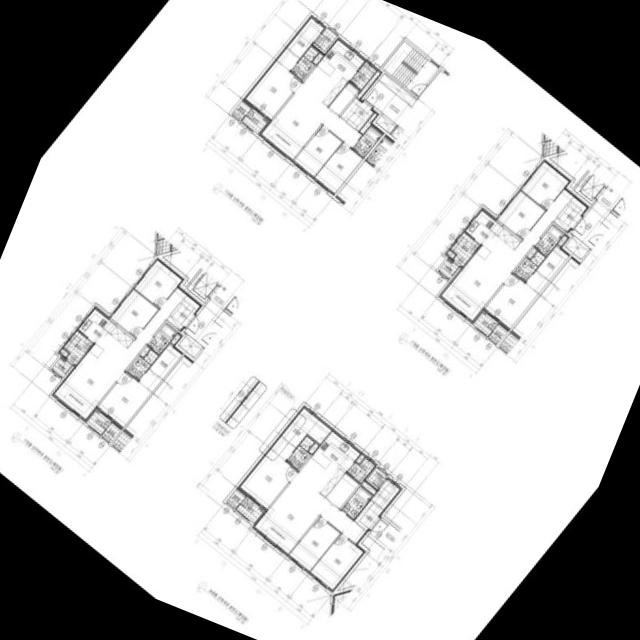background: (0, 0, 640, 640)
space_balconi: (450, 232, 479, 266), (63, 330, 92, 364), (349, 61, 376, 89), (346, 457, 374, 483), (235, 496, 262, 522), (241, 107, 266, 133), (85, 410, 110, 434), (472, 312, 497, 335)
space_bedroom: (238, 447, 296, 508), (245, 60, 300, 118), (482, 273, 537, 330), (95, 371, 150, 428), (309, 533, 363, 590), (289, 516, 339, 570), (293, 125, 341, 176), (314, 142, 362, 193), (520, 161, 568, 209), (497, 190, 544, 239), (134, 259, 181, 307), (110, 289, 157, 337), (308, 442, 318, 453)
space_dressroom: (269, 406, 330, 459), (275, 17, 323, 71), (138, 343, 182, 391), (525, 245, 569, 292)
space_elevator: (186, 268, 219, 302), (573, 170, 606, 204)
space_elevator_hall: (570, 186, 621, 243), (183, 284, 234, 341), (363, 80, 410, 124), (367, 517, 398, 549)
space_front: (552, 203, 583, 232), (353, 499, 382, 530), (165, 302, 196, 331), (345, 100, 373, 131)
space_kitchen: (300, 39, 363, 106), (296, 430, 359, 496), (464, 206, 520, 262), (77, 305, 133, 361)
space_living_room: (437, 188, 572, 323), (50, 287, 185, 421), (254, 474, 366, 553), (260, 85, 361, 158)
space_other: (378, 73, 416, 105), (325, 473, 358, 508), (328, 82, 358, 114), (370, 479, 400, 509), (564, 232, 591, 259), (177, 331, 204, 357), (356, 70, 379, 98), (313, 27, 336, 50), (340, 97, 360, 120), (181, 293, 201, 313), (567, 195, 588, 214), (51, 357, 72, 376), (438, 259, 459, 278), (367, 467, 386, 487), (375, 113, 395, 132), (359, 112, 376, 133), (361, 480, 376, 494), (557, 233, 569, 246), (170, 331, 182, 344), (443, 248, 454, 259), (526, 247, 536, 258), (56, 347, 67, 357), (139, 346, 149, 356), (312, 53, 322, 63), (355, 454, 364, 463)
space_outdoor_room: (101, 422, 120, 442), (488, 324, 507, 343), (231, 100, 250, 119), (226, 488, 244, 508)
space_staircase: (382, 40, 438, 96)
space_toilet: (340, 485, 372, 518), (126, 348, 157, 379), (513, 250, 544, 281), (147, 322, 177, 354), (286, 435, 314, 469), (290, 45, 318, 79), (534, 224, 564, 255), (352, 125, 381, 157)
